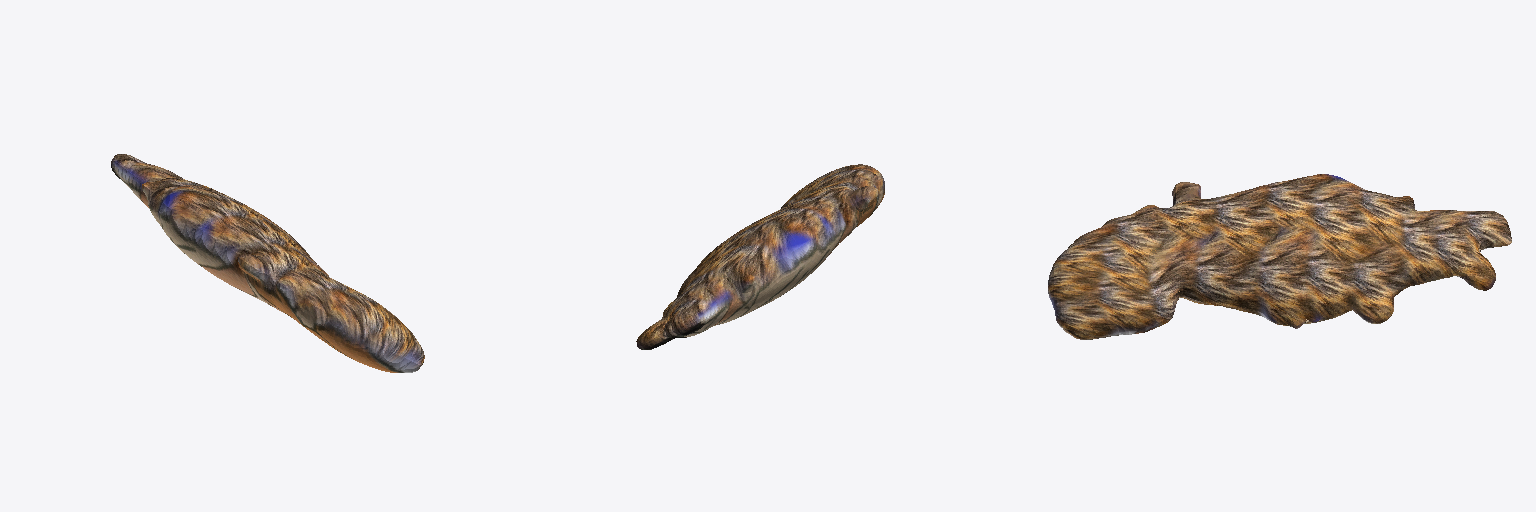
The picture shows the model from 3 angles: view 1: azimuth 30°, elevation 25°; view 2: azimuth 150°, elevation 25°; view 3: azimuth 270°, elevation 25°; orthographic projection.
Parts seen in each view (by area): view 1: Object.1; view 2: Object.1; view 3: Object.1.
Part boxes in pixels (x1,y1,x2,y2): Object.1: (111, 154, 424, 372); Object.1: (636, 164, 884, 349); Object.1: (1048, 174, 1511, 339).
Bounding box in the file's own units: 0.1347 × 0.107 × 0.3989.
Materials: 1 (1 with a texture image).